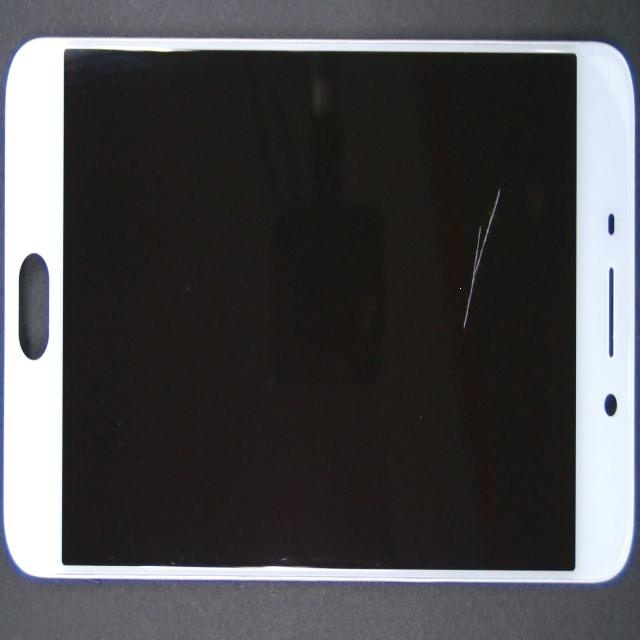scratch: (229, 166, 640, 502)
